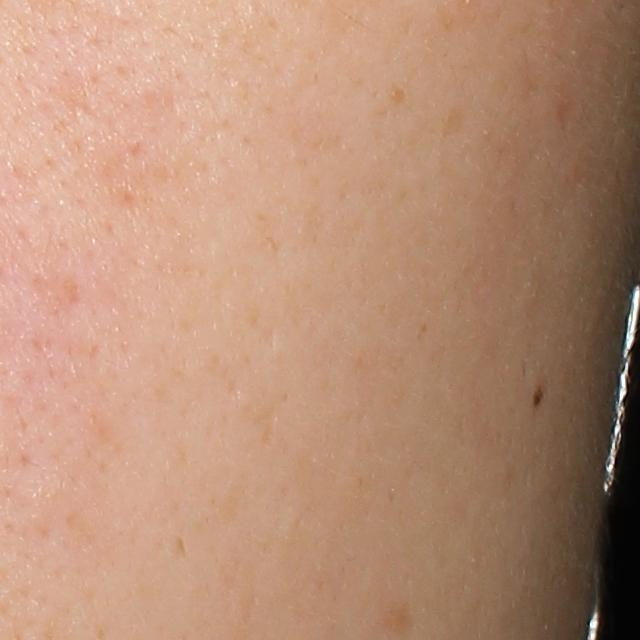nevus: (529, 383, 545, 411)
